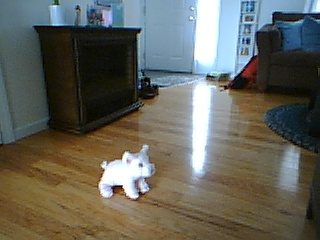piggy: (97, 143, 157, 200)
